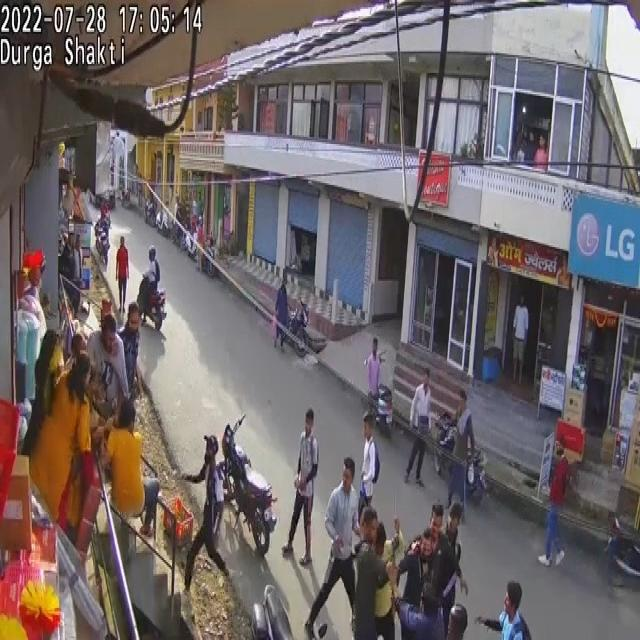fight: (308, 478, 474, 639), (18, 330, 80, 528), (57, 360, 96, 547), (99, 402, 144, 526), (352, 521, 398, 640), (420, 514, 462, 638), (86, 313, 128, 422), (324, 482, 361, 562)
non-fight: (181, 434, 232, 588), (282, 406, 319, 561), (539, 440, 571, 567), (446, 390, 474, 512), (406, 368, 432, 483), (358, 412, 380, 523), (122, 303, 144, 399), (59, 233, 80, 316), (140, 248, 161, 322), (512, 295, 529, 383), (364, 338, 382, 410), (274, 276, 289, 350)
